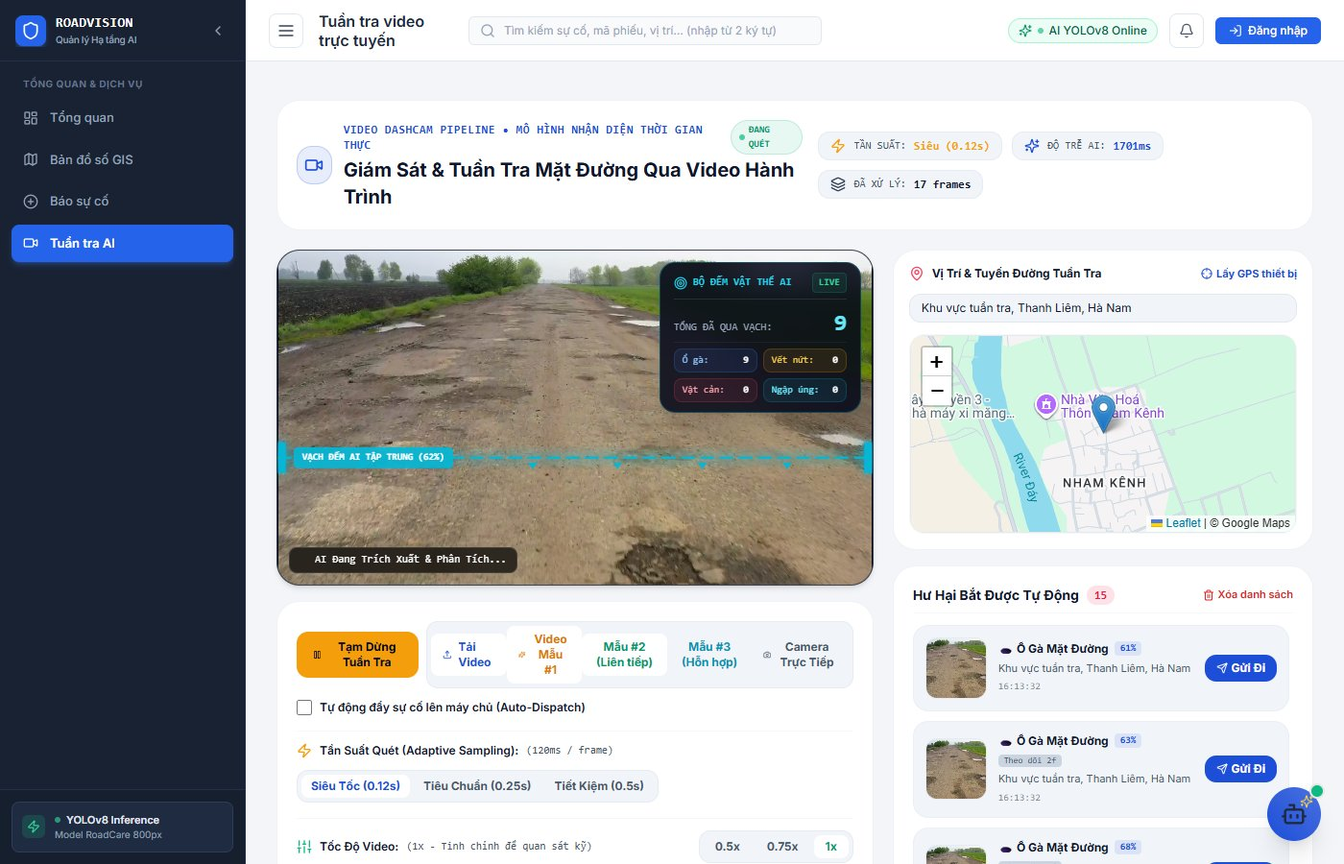ROAD_OBSTACLE: (323, 536, 618, 708)
